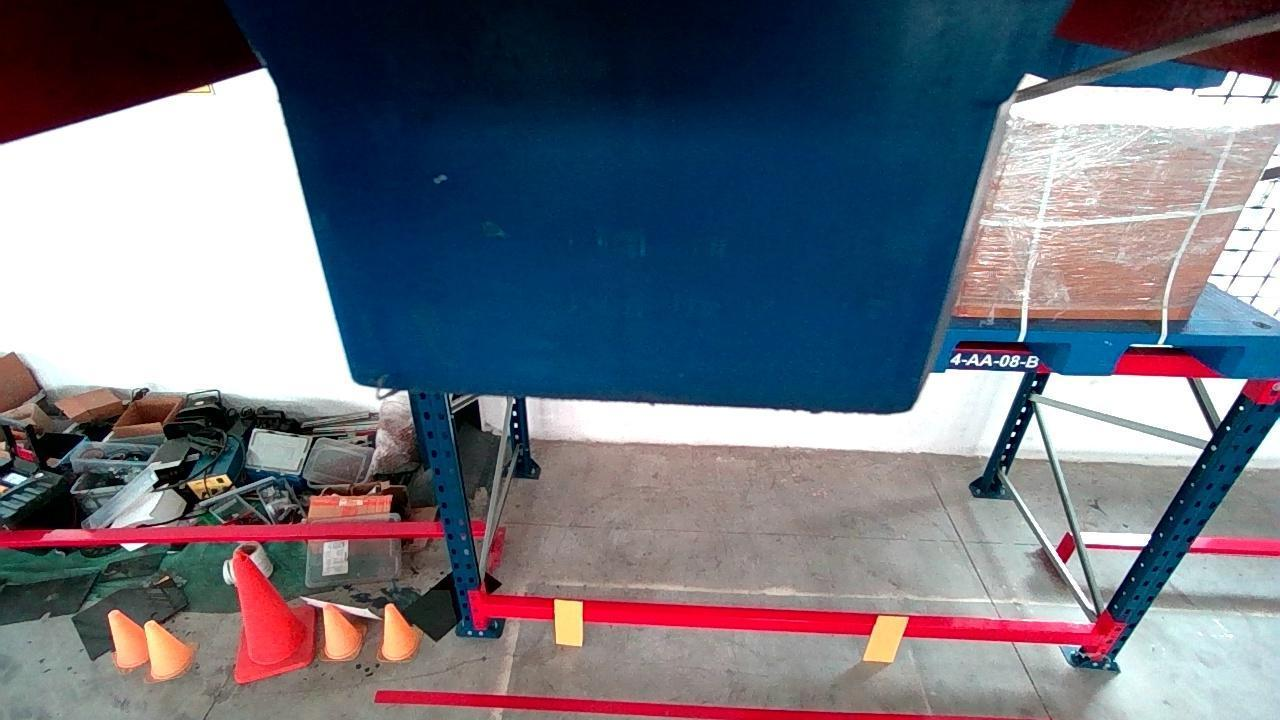h_rack: (486, 593, 1097, 645)
orange_strip: (862, 615, 908, 665), (555, 597, 584, 646)
red_line: (376, 689, 1036, 717)
small_pallet: (933, 332, 1280, 379)
